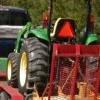Tractor: (11, 14, 100, 95)
